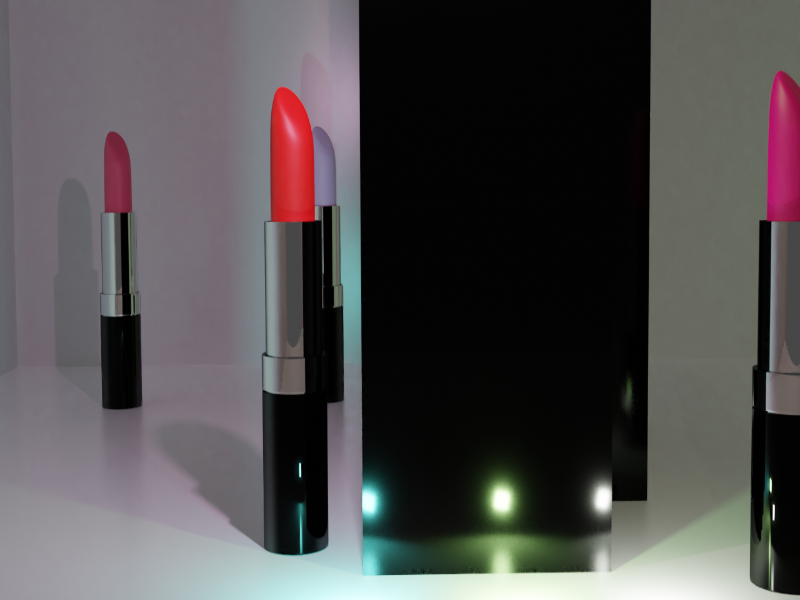lipstick: (267, 82, 330, 553), (763, 69, 796, 596), (308, 126, 350, 405), (102, 127, 140, 415)
